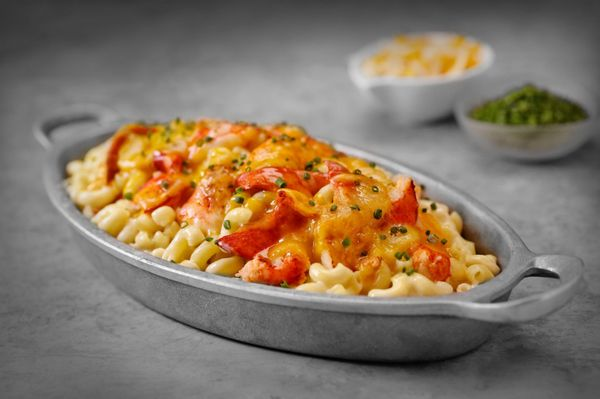sushi: (35, 93, 566, 364), (345, 32, 496, 129), (453, 79, 599, 164)
